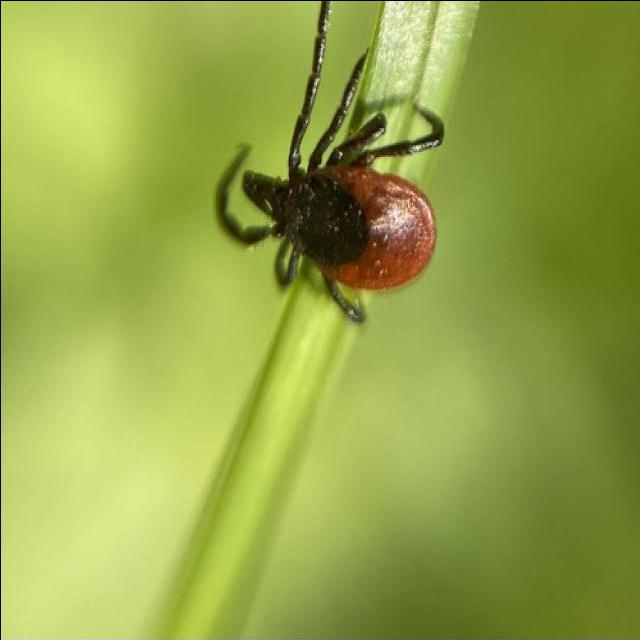Ixodes Ricinus-F: (212, 0, 443, 326)
